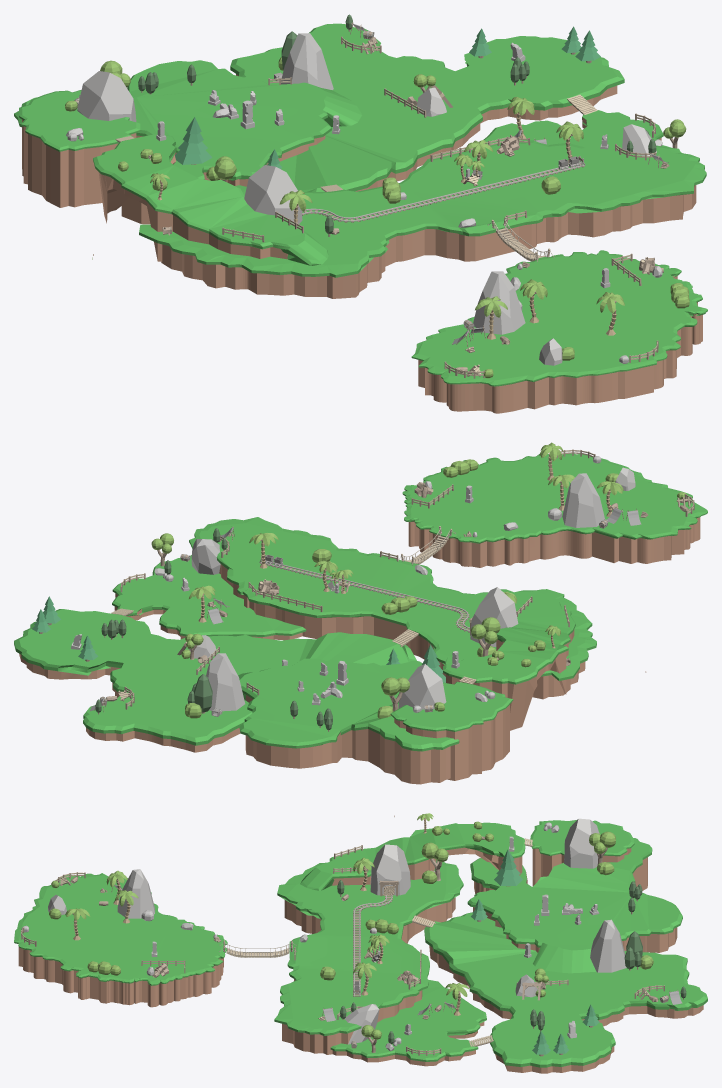
The model's file is islands.gltf.
3 views of the same model, one above another, from view 1: azimuth 30°, elevation 25°; view 2: azimuth 150°, elevation 25°; view 3: azimuth 270°, elevation 25° (orthographic). The views are drawn at different scales.
Visible parts, largest first — view 1: terrain, clif, Mountain_4.002, Mountain_4.001, Mountain_3.001, Mountain_3.002, Hilly_Prop_Tree_Pine_1.004, Mountain_3.003; view 2: terrain, clif, Mountain_3.001, Mountain_3.002, Mountain_4.002, Mountain_4.001, Mountain_3.003, Hilly_Prop_Tree_Oak_4.002, Hilly_Prop_Tree_Oak_4.001, Hilly_Prop_Tree_Cedar_1.009; view 3: terrain, clif, Mountain_4.001, Mountain_3.002, Mountain_4.002, Mountain_3.001, Mountain_3.003, Hilly_Prop_Tree_Pine_1.004, Hilly_Prop_Tree_Oak_4.001, Hilly_Prop_Tree_Oak_4.002.
Boxes of the visible parts, box(x1,y1,x2,y2) form: terrain: box(14, 23, 707, 386); clif: box(22, 74, 702, 413); Mountain_4.002: box(77, 71, 136, 121); Mountain_4.001: box(244, 165, 302, 224); Mountain_3.001: box(473, 271, 525, 334); Mountain_3.002: box(281, 33, 333, 89); Hilly_Prop_Tree_Pine_1.004: box(175, 117, 212, 164); Mountain_3.003: box(622, 124, 656, 155); terrain: box(14, 453, 707, 751); clif: box(19, 517, 700, 784); Mountain_3.001: box(562, 473, 604, 527); Mountain_3.002: box(206, 653, 245, 711); Mountain_4.002: box(398, 664, 446, 709); Mountain_4.001: box(470, 587, 518, 646); Mountain_3.003: box(191, 539, 220, 574); Hilly_Prop_Tree_Oak_4.002: box(470, 617, 500, 656); Hilly_Prop_Tree_Oak_4.001: box(381, 677, 409, 711); Hilly_Prop_Tree_Cedar_1.009: box(194, 674, 212, 713); terrain: box(14, 820, 707, 1067); clif: box(18, 847, 703, 1073); Mountain_4.001: box(370, 844, 410, 895); Mountain_3.002: box(590, 919, 626, 972); Mountain_4.002: box(564, 818, 599, 868); Mountain_3.001: box(117, 869, 154, 918); Mountain_3.003: box(345, 1004, 379, 1044); Hilly_Prop_Tree_Pine_1.004: box(494, 849, 522, 886); Hilly_Prop_Tree_Oak_4.001: box(589, 831, 615, 864); Hilly_Prop_Tree_Oak_4.002: box(421, 842, 448, 881).
Size of the model in its own units: 455 by 80.81 by 578.
